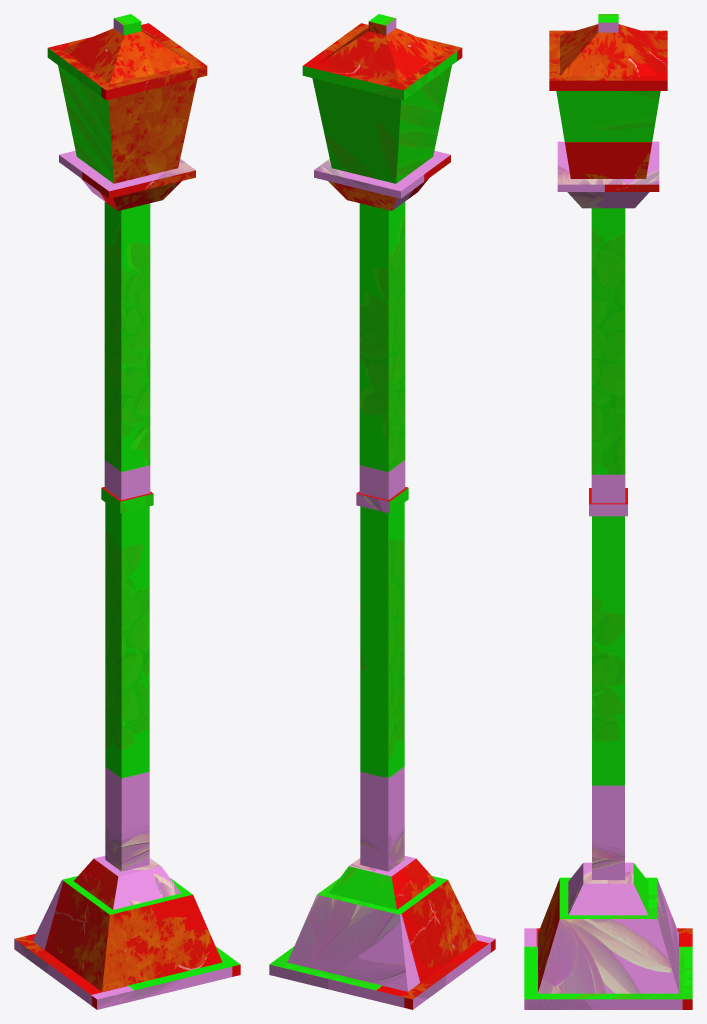
File: 2.Lamp.fbx
The picture shows the model from 3 angles, left to right: view 1: azimuth 30°, elevation 25°; view 2: azimuth 150°, elevation 25°; view 3: azimuth 270°, elevation 25°; orthographic projection.
Visible parts, largest first — view 1: Cube, Cube.001; view 2: Cube, Cube.001; view 3: Cube, Cube.001.
Boxes of the visible parts, bbox=[...] form: Cube: bbox=[14, 14, 240, 1009]; Cube.001: bbox=[58, 65, 197, 183]; Cube: bbox=[269, 14, 495, 1009]; Cube.001: bbox=[312, 65, 451, 183]; Cube: bbox=[524, 14, 692, 1009]; Cube.001: bbox=[556, 91, 660, 178].
Bounding box in the file's own units: 200 × 1254 × 200.
